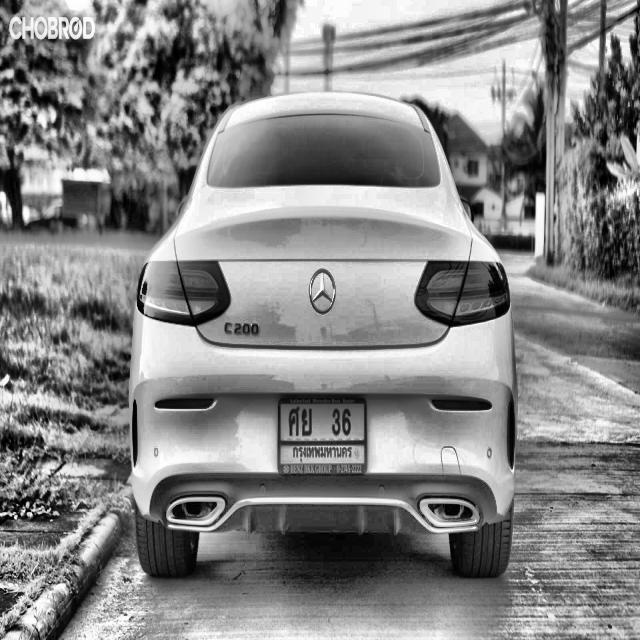license-plate: (277, 393, 369, 481)
